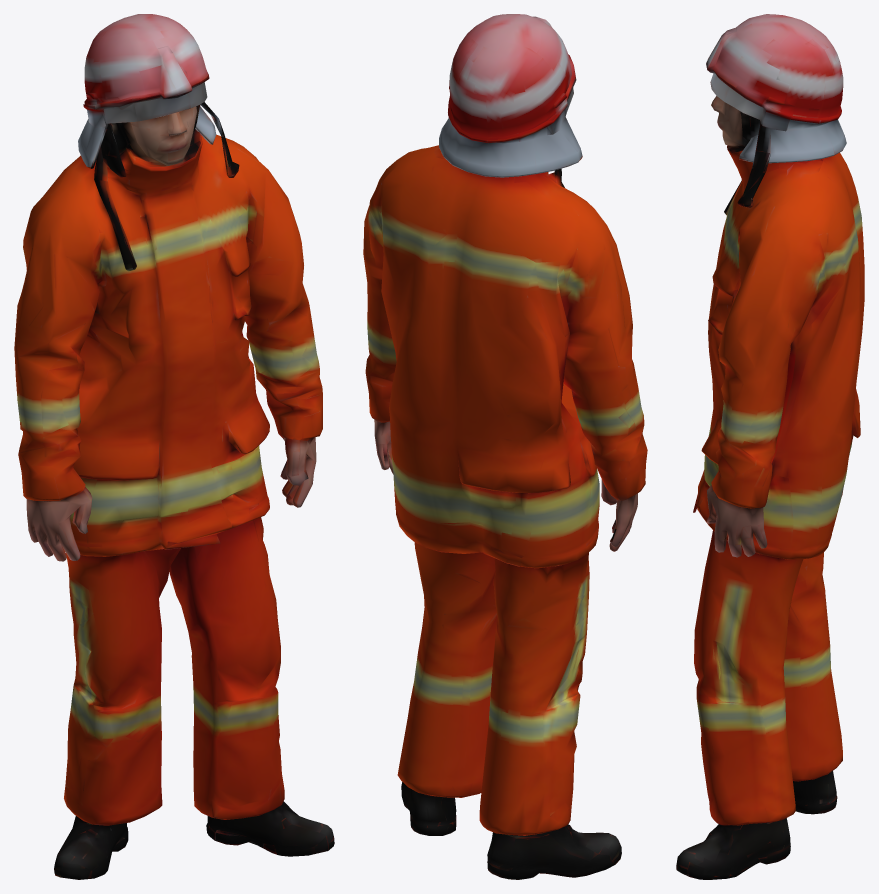
File: damkar_idle.glb
The picture shows the model from 3 angles, left to right: view 1: azimuth 30°, elevation 25°; view 2: azimuth 150°, elevation 25°; view 3: azimuth 270°, elevation 25°; orthographic projection. The views are drawn at different scales.
Visible parts, largest first — view 1: tripo_node_d2e113b2; view 2: tripo_node_d2e113b2; view 3: tripo_node_d2e113b2.
Part boxes in pixels (box(x1,y1,x2,y2)): tripo_node_d2e113b2: box(14, 14, 334, 879); tripo_node_d2e113b2: box(363, 14, 647, 879); tripo_node_d2e113b2: box(676, 14, 864, 879).
Bounding box in the file's own units: 35.56 × 99.96 × 21.39.
1 material, 1 textured.
